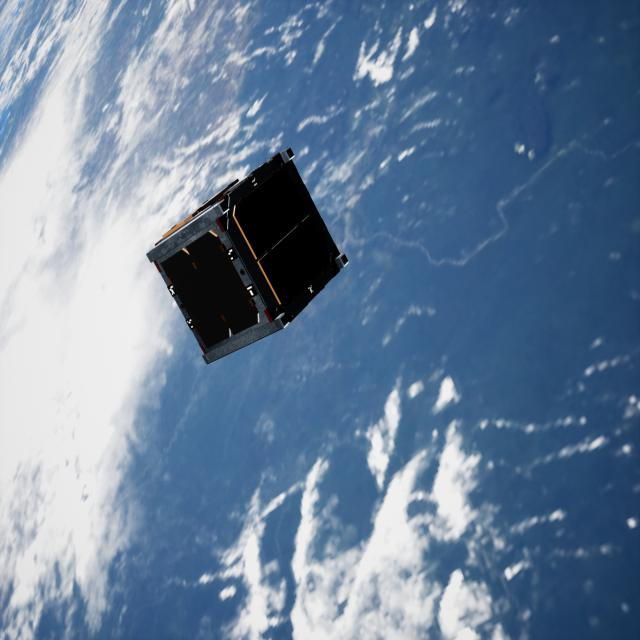satellite: (150, 144, 362, 368)
